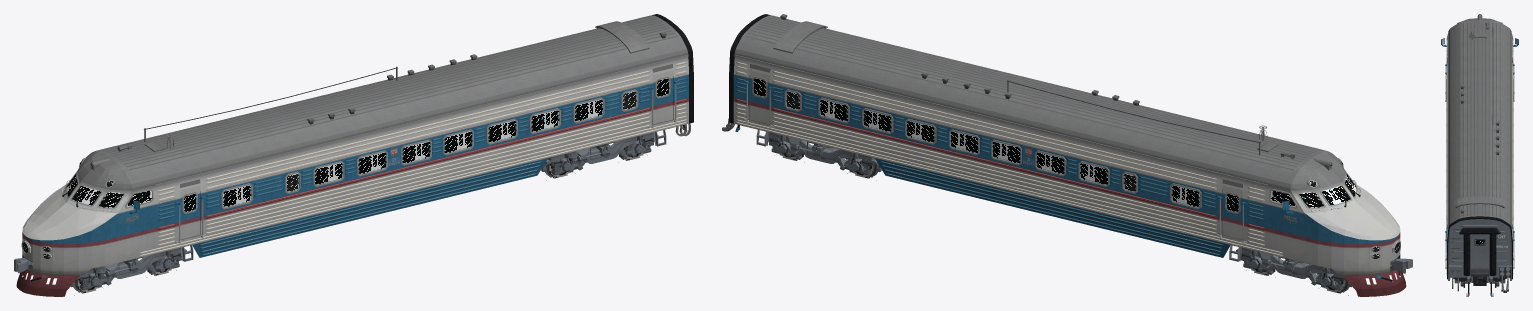
The model's file is mvp_ir_r200h.obj.
3 views of the same model, side by side, from view 1: azimuth 30°, elevation 25°; view 2: azimuth 150°, elevation 25°; view 3: azimuth 270°, elevation 25° (orthographic). The views are drawn at different scales.
Visible parts, largest first — view 1: FRAME_r200h, BOGEY_REAR_r200h, BOGEY_FRONT_r200h; view 2: FRAME_r200h, BOGEY_REAR_r200h, BOGEY_FRONT_r200h; view 3: FRAME_r200h, BOGEY_REAR_r200h.
Part boxes in pixels (x1,y1,x2,y2): FRAME_r200h: [14, 14, 693, 296]; BOGEY_REAR_r200h: [541, 132, 658, 175]; BOGEY_FRONT_r200h: [71, 247, 186, 290]; FRAME_r200h: [722, 14, 1412, 296]; BOGEY_REAR_r200h: [764, 132, 881, 175]; BOGEY_FRONT_r200h: [1236, 247, 1351, 290]; FRAME_r200h: [1441, 14, 1518, 296]; BOGEY_REAR_r200h: [1454, 279, 1505, 286].
Bounding box in the file's own units: 25.51 × 4.79 × 3.55.
